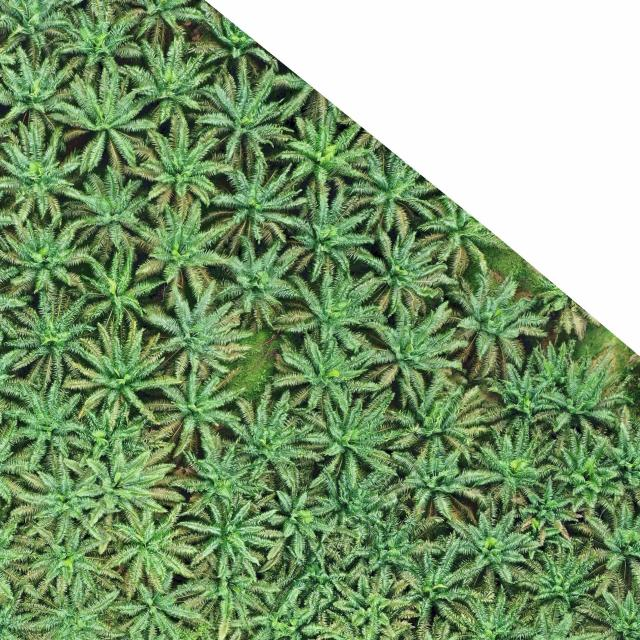Tree: (352, 298, 472, 412), (64, 323, 181, 435), (283, 388, 402, 498), (142, 276, 256, 380), (222, 380, 325, 495), (55, 76, 164, 183), (130, 192, 237, 298), (0, 277, 104, 385), (70, 438, 188, 533), (110, 29, 220, 130), (201, 157, 312, 257), (378, 373, 503, 461), (267, 264, 380, 359), (170, 487, 281, 583), (92, 502, 197, 603), (267, 329, 377, 424), (167, 423, 273, 521), (381, 429, 487, 526), (136, 364, 244, 459), (201, 230, 298, 334), (398, 532, 492, 636), (133, 120, 235, 215), (8, 458, 112, 551), (58, 162, 154, 262), (193, 65, 286, 167), (355, 222, 454, 317), (0, 120, 86, 227), (449, 278, 546, 371), (284, 185, 378, 280), (532, 349, 631, 439), (5, 376, 97, 472), (21, 518, 128, 598), (445, 501, 545, 586), (0, 210, 97, 296), (106, 568, 219, 640), (257, 479, 349, 566), (567, 492, 640, 600), (74, 248, 169, 330), (471, 422, 558, 507), (20, 571, 126, 640), (0, 43, 79, 135), (201, 579, 317, 640), (60, 2, 140, 87), (544, 429, 627, 509), (353, 508, 427, 594), (326, 568, 415, 638), (448, 579, 542, 640), (523, 540, 606, 605), (588, 401, 640, 503), (0, 0, 80, 66), (514, 475, 583, 540), (486, 359, 553, 421), (582, 576, 640, 640)
